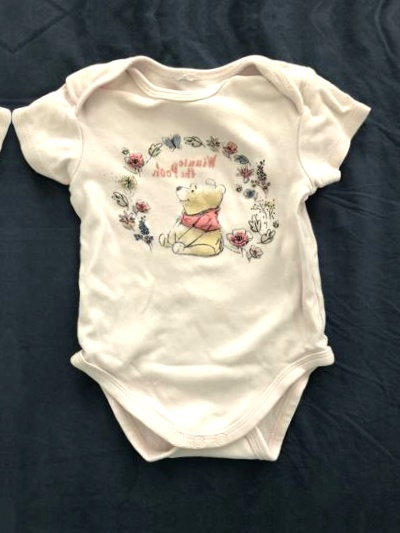Body: (12, 39, 393, 486), (0, 33, 6, 481)
